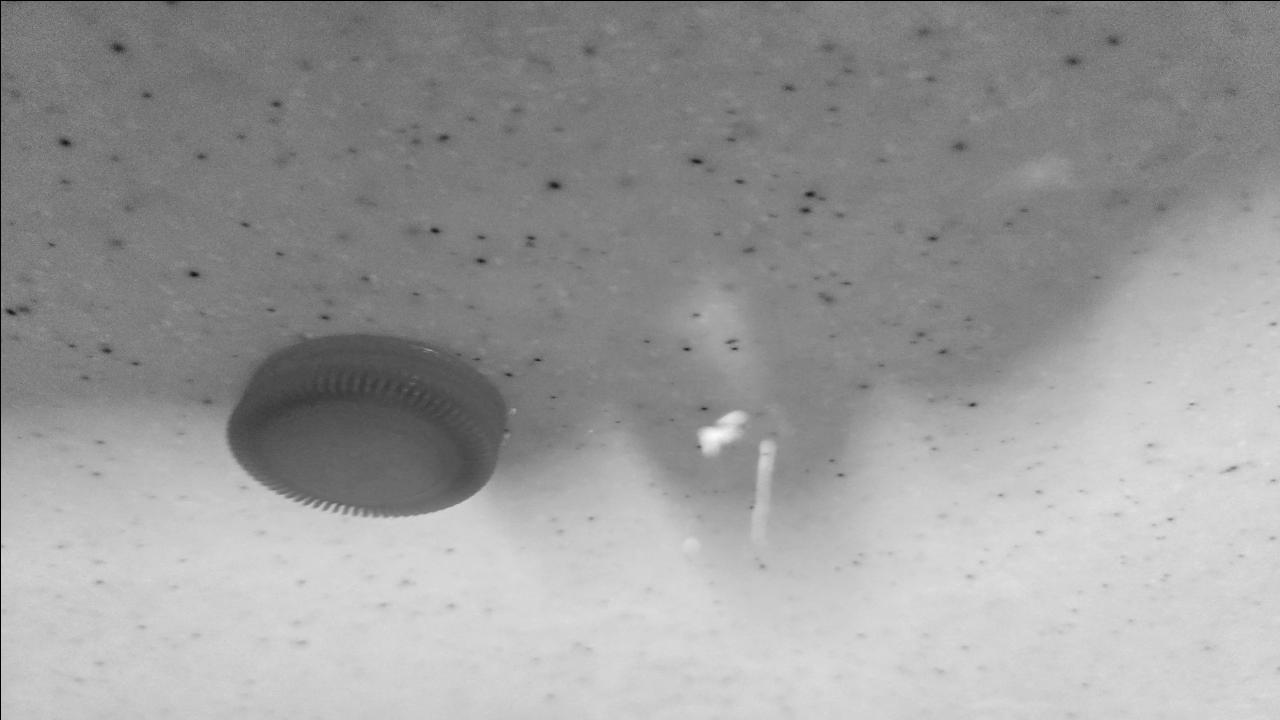bottle_cap: (220, 334, 512, 518)
